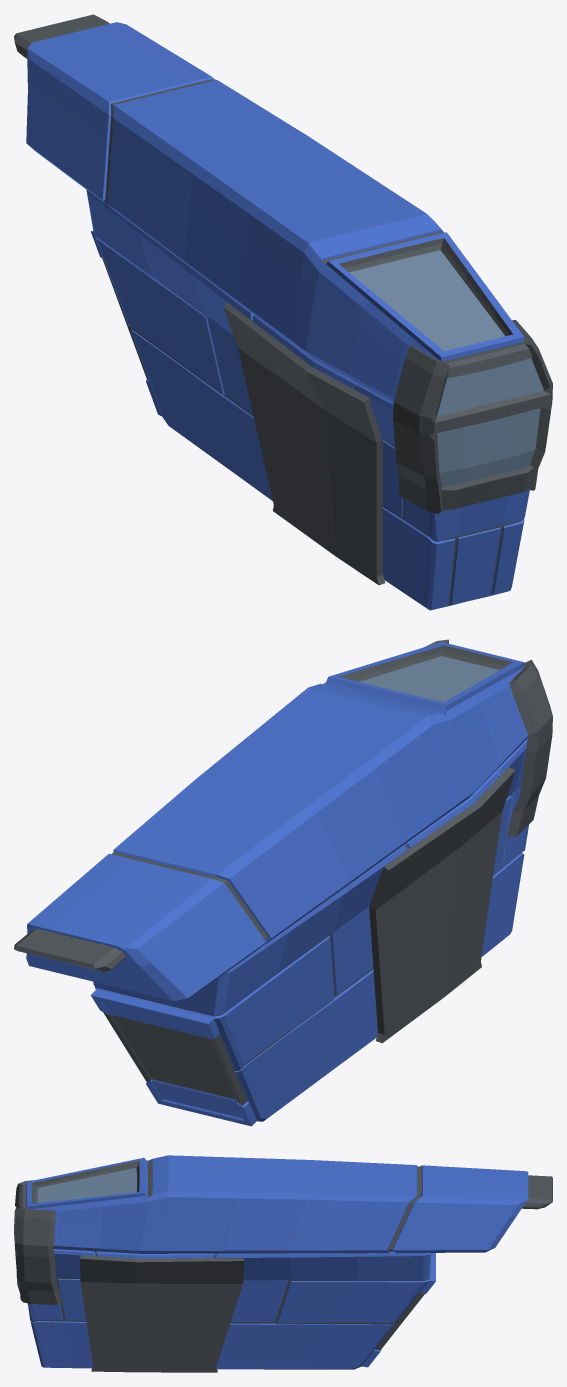
Rendered from Fighter_05_Body_Blue.fbx.
3 views of the same model, one above another, from view 1: azimuth 30°, elevation 25°; view 2: azimuth 150°, elevation 25°; view 3: azimuth 270°, elevation 25° (orthographic). The views are drawn at different scales.
Visible parts, largest first — view 1: Fighter_05_Body_Blue; view 2: Fighter_05_Body_Blue; view 3: Fighter_05_Body_Blue.
Part boxes in pixels (bbox=[...]): Fighter_05_Body_Blue: bbox=[14, 14, 552, 610]; Fighter_05_Body_Blue: bbox=[14, 639, 552, 1126]; Fighter_05_Body_Blue: bbox=[14, 1155, 552, 1372].
Size of the model in its own units: 398 by 652 by 1740.
2 materials, 2 textured.
